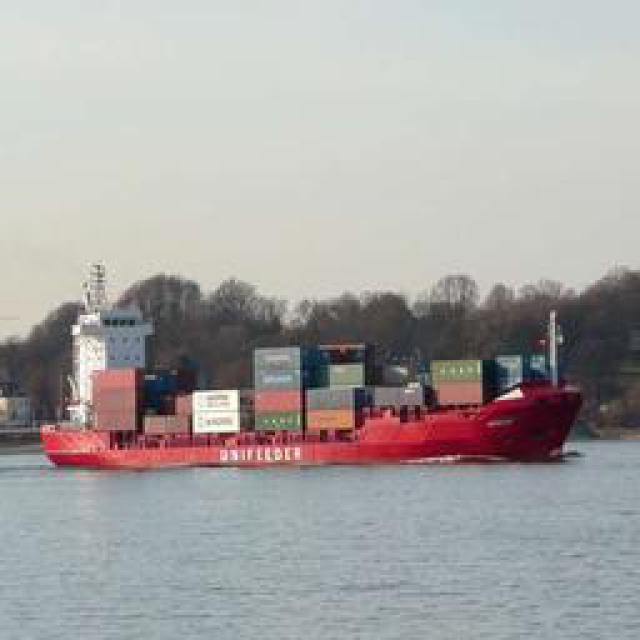Ship: (60, 373, 588, 471)
